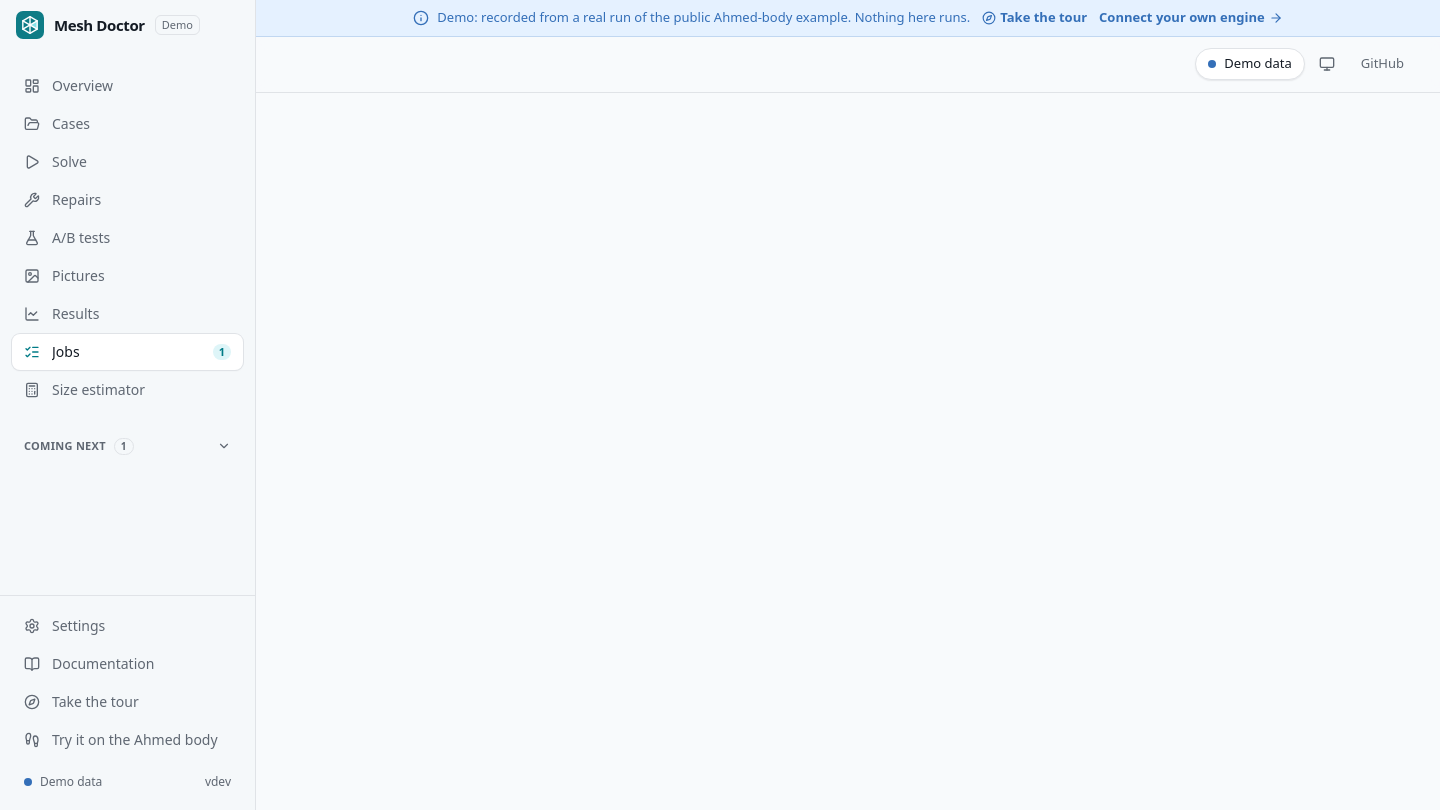
Scenario: the sidebar's Coming next list › still opens and folds where this browser keeps nothing
Click the button named "Coming next 1 screen" at x=128, y=446, box [12,432,243,460]
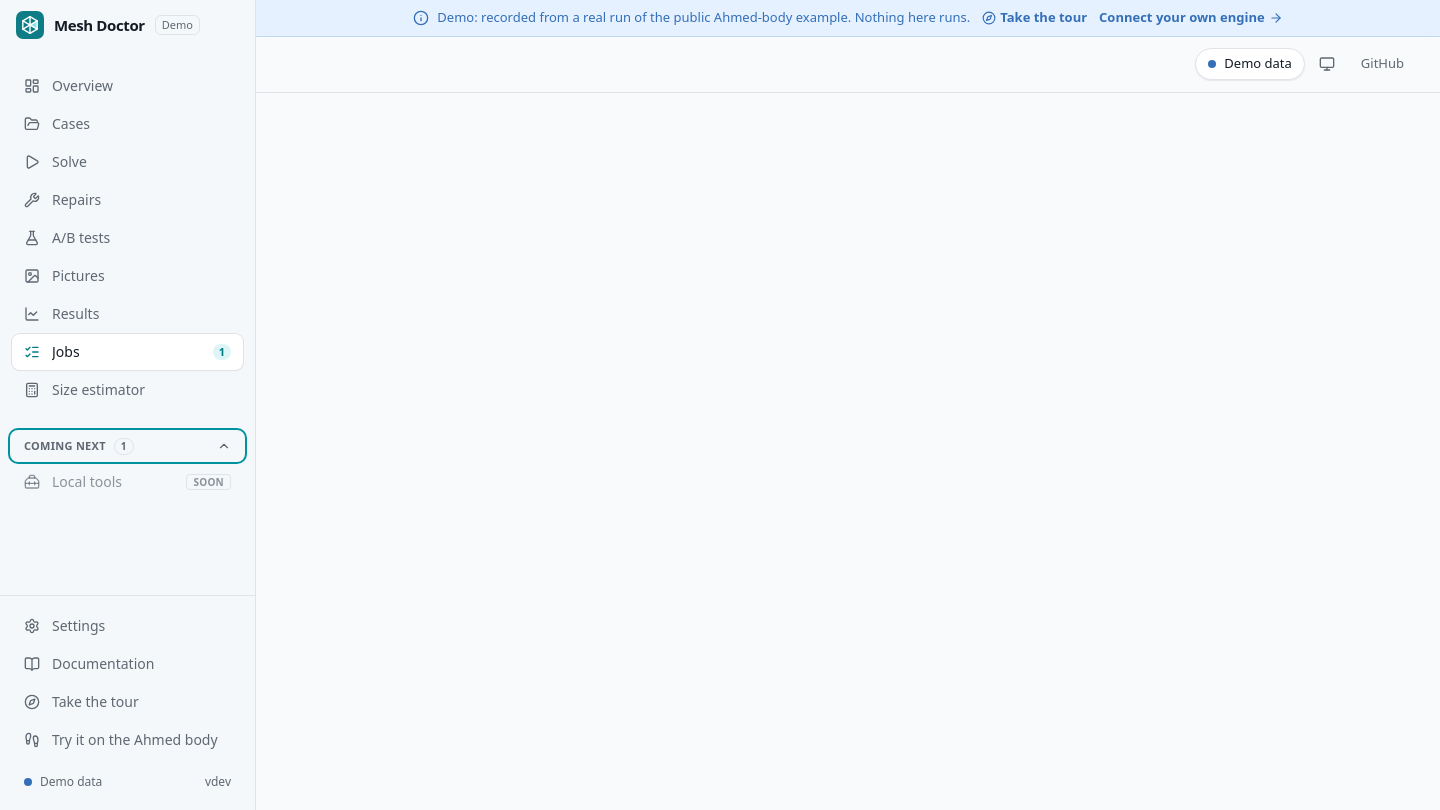
Expected: the text "A/B tests" is shown, [52,228,110,247]
Expected: the button named "Coming next 1 screen" is expanded
Click the button named "Coming next 1 screen" at x=128, y=446, box [12,432,243,460]
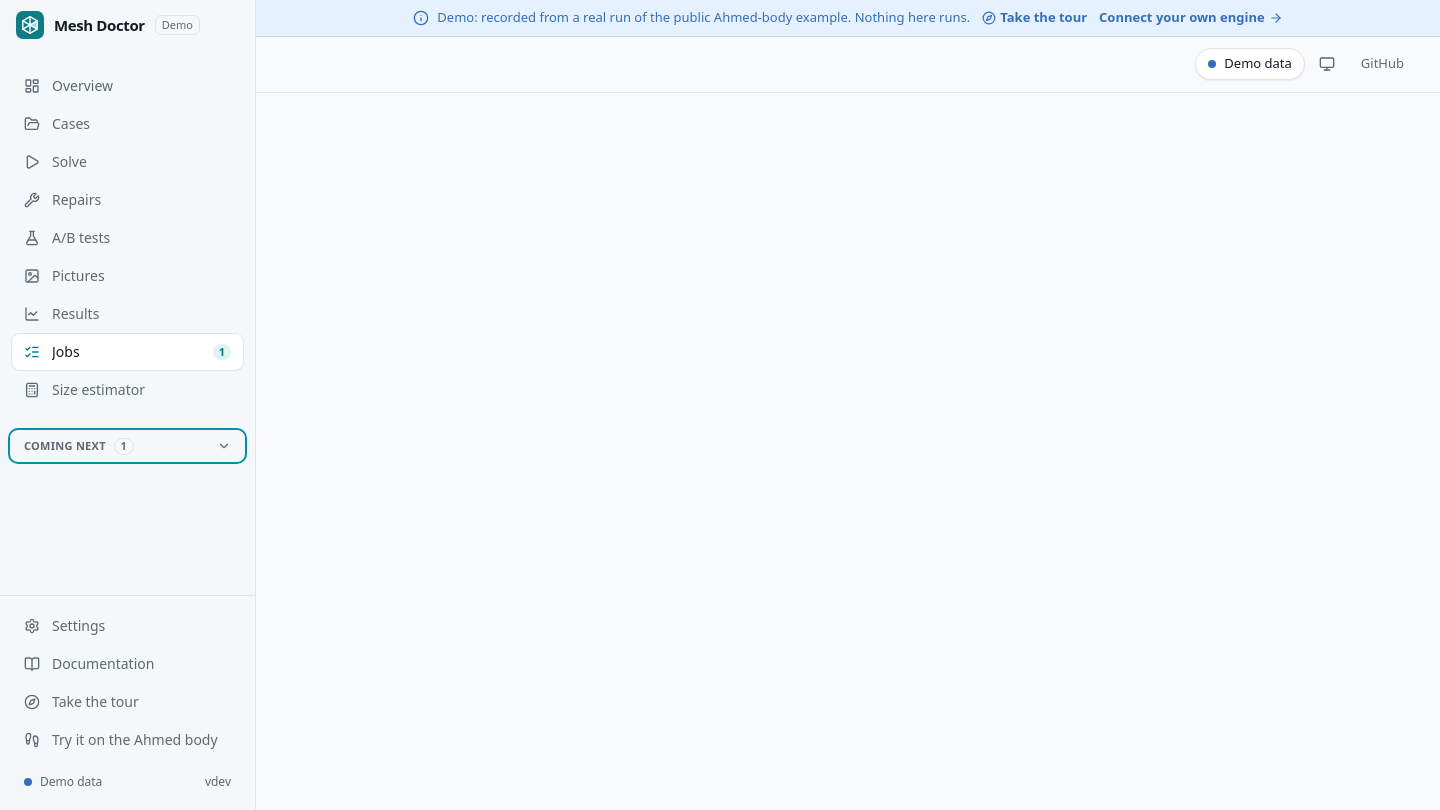
Expected: the button named "Coming next 1 screen" is collapsed, [12,432,243,460]
